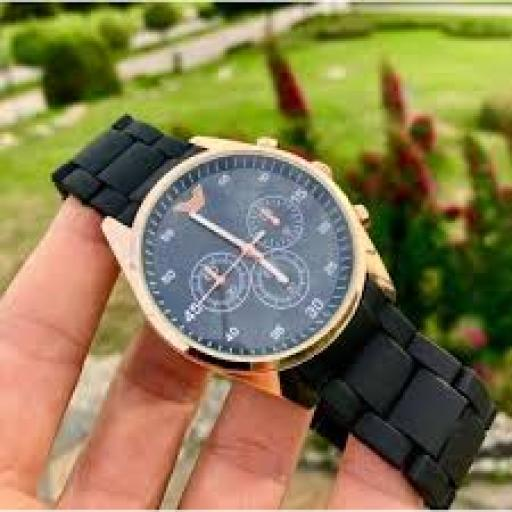KolSaati: (32, 63, 472, 475)
